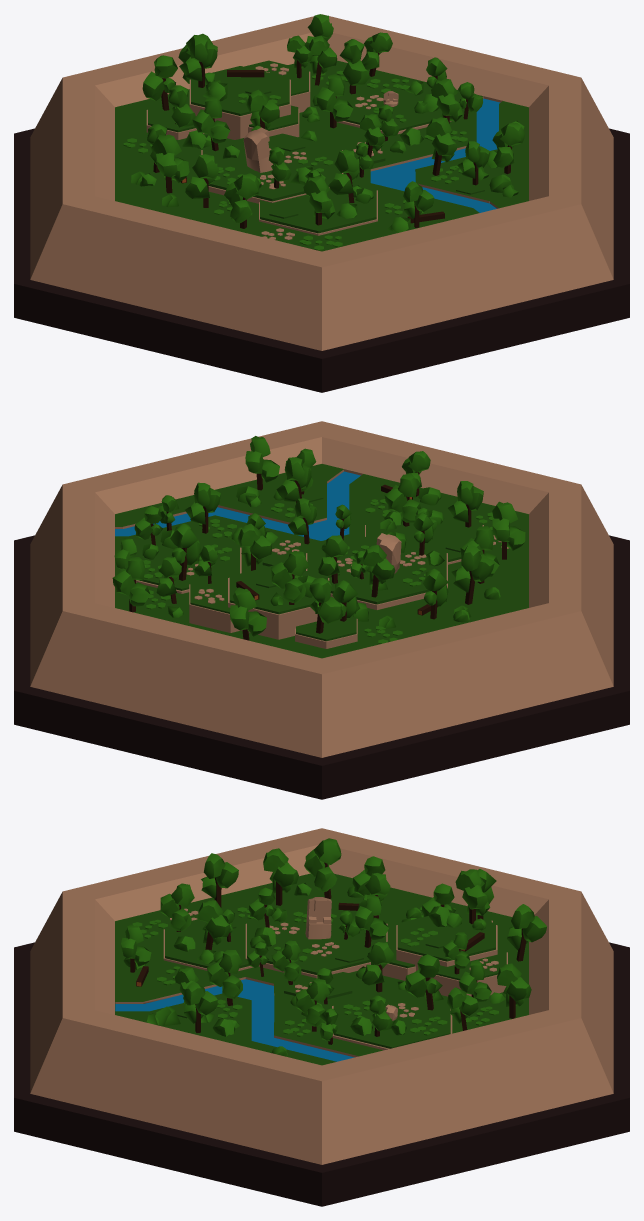
3 renders of one model, top to bottom at view 1: azimuth 30°, elevation 25°; view 2: azimuth 150°, elevation 25°; view 3: azimuth 270°, elevation 25°, orthographic.
Parts seen in each view (by area): view 1: Cone002, Cone004, Cone006, Box067, Cone007, Cone005, Cone045, Box046, Box006, Box018, Box077, Box014 (+24 smaller); view 2: Cone002, Cone004, Cone006, Box067, Cone007, Cone005, Cone045, Box046, Cone047, Box077, Box076, Box049 (+26 smaller); view 3: Cone002, Cone004, Cone007, Cone006, Box067, Cone045, Cone005, Box046, Box076, Box045, Box034, Box006 (+24 smaller).
Boxes of the visible parts, <box> form: Cone002: <box>30,14,613,350</box>; Cone004: <box>14,128,629,392</box>; Cone006: <box>202,133,341,201</box>; Box067: <box>370,98,500,212</box>; Cone007: <box>336,74,442,130</box>; Cone005: <box>260,182,376,233</box>; Cone045: <box>191,66,289,115</box>; Box046: <box>152,134,189,193</box>; Box006: <box>224,173,259,228</box>; Box018: <box>142,55,177,110</box>; Box077: <box>179,36,217,87</box>; Box014: <box>316,74,353,128</box>; Cone002: <box>30,421,613,757</box>; Cone004: <box>14,535,629,799</box>; Cone006: <box>307,534,446,604</box>; Box067: <box>115,471,360,540</box>; Cone007: <box>130,535,239,590</box>; Cone005: <box>366,509,482,562</box>; Cone045: <box>229,565,327,614</box>; Box046: <box>451,544,494,604</box>; Cone047: <box>228,577,329,639</box>; Box077: <box>271,551,308,604</box>; Box076: <box>229,587,266,640</box>; Box049: <box>112,557,150,612</box>; Cone002: <box>30,828,613,1164</box>; Cone004: <box>14,942,629,1206</box>; Cone007: <box>333,990,450,1048</box>; Cone006: <box>247,907,386,974</box>; Box067: <box>115,979,354,1061</box>; Cone045: <box>397,912,495,961</box>; Cone005: <box>165,914,251,968</box>; Box046: <box>304,838,341,898</box>; Box076: <box>507,904,546,961</box>; Box045: <box>207,949,242,1005</box>; Box034: <box>405,954,442,1010</box>; Box006: <box>201,853,238,907</box>.
Bounding box in the file's own units: 0.4826 × 0.1213 × 0.4179.
